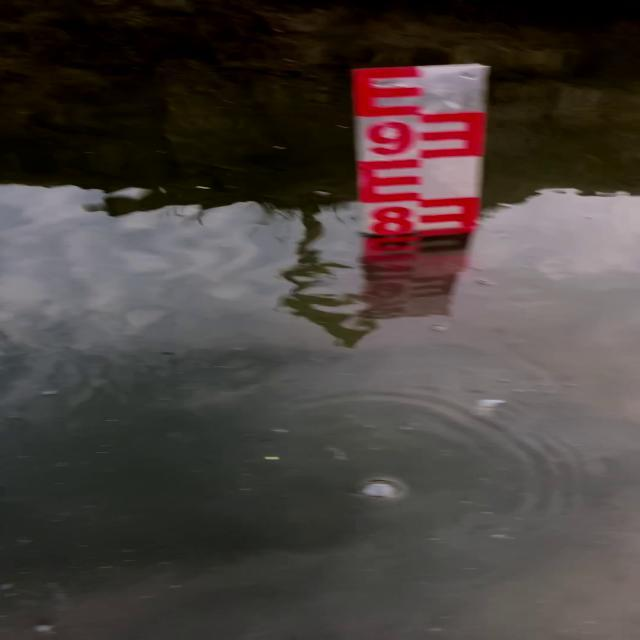ruler: (346, 60, 496, 246)
value: (358, 115, 419, 161), (360, 199, 420, 240)
